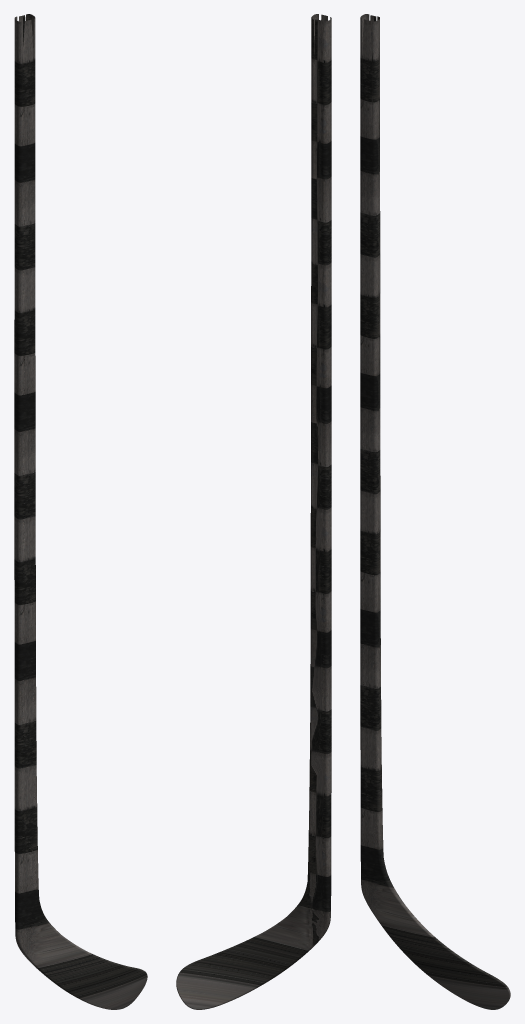
File: P29-ST-LIE8_0.glb
3 renders of one model, left to right at view 1: azimuth 30°, elevation 25°; view 2: azimuth 150°, elevation 25°; view 3: azimuth 330°, elevation 25°, orthographic. The views are drawn at different scales.
Parts seen in each view (by area): view 1: geometry_0; view 2: geometry_0; view 3: geometry_0.
Part boxes in pixels (bbox=[...]): geometry_0: bbox=[14, 14, 147, 1009]; geometry_0: bbox=[176, 14, 331, 1009]; geometry_0: bbox=[360, 14, 510, 1009].
Bounding box in the file's own units: 241 × 1650 × 55.98.
Materials: 1 (1 with a texture image).
